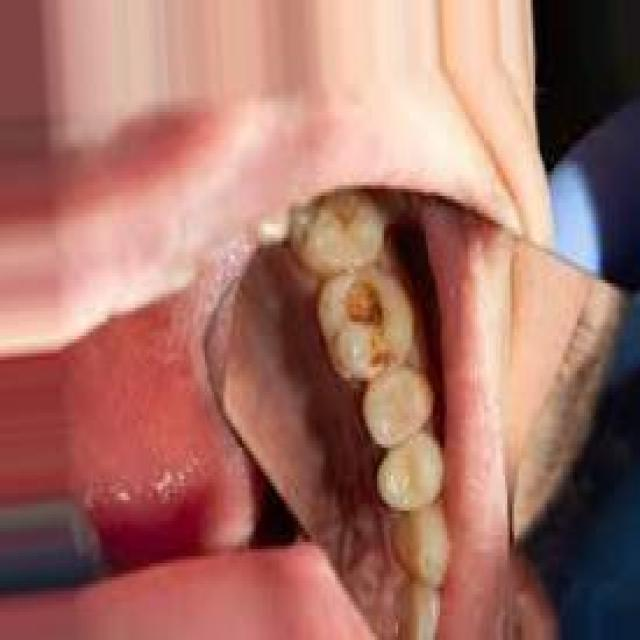caries: (330, 260, 404, 380)
